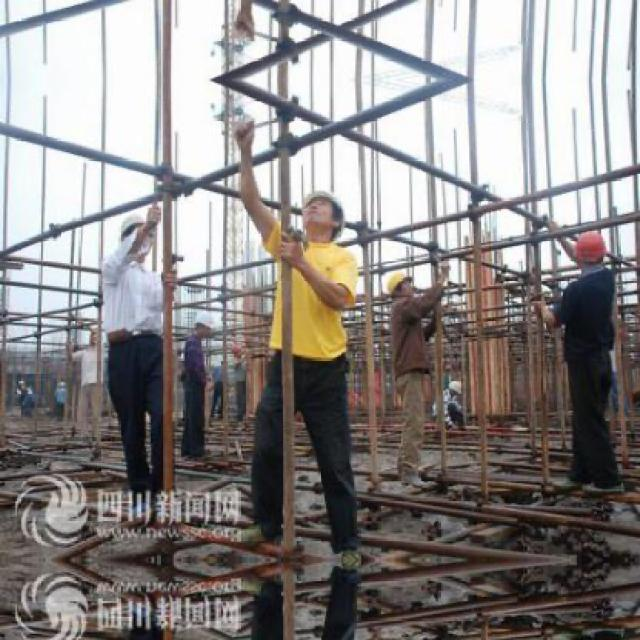helmet: (298, 183, 348, 242), (566, 230, 614, 268), (114, 211, 154, 255), (385, 268, 417, 294), (191, 308, 214, 337), (444, 374, 462, 397)
